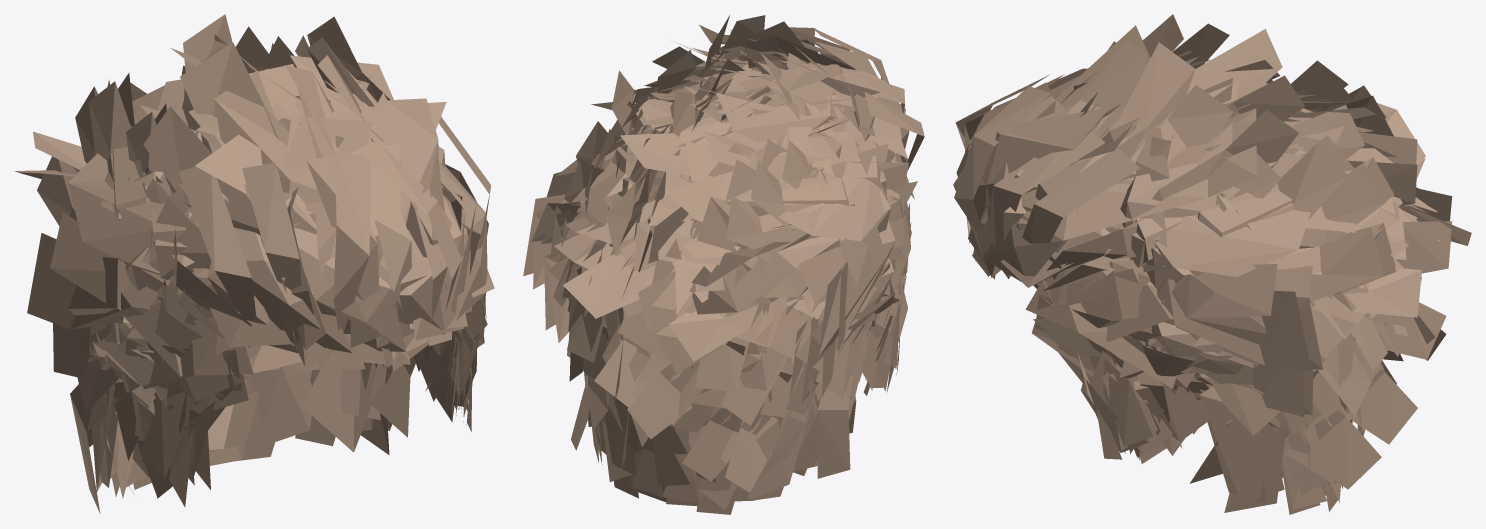
File: male_hair_14_lod1.glb
The picture shows the model from 3 angles, left to right: view 1: azimuth 30°, elevation 25°; view 2: azimuth 150°, elevation 25°; view 3: azimuth 270°, elevation 25°; orthographic projection. The views are drawn at different scales.
Visible parts, largest first — view 1: hair_14; view 2: hair_14; view 3: hair_14.
Boxes of the visible parts, box(x1,y1,x2,y2) form: hair_14: box(14, 14, 494, 513); hair_14: box(523, 15, 924, 514); hair_14: box(953, 14, 1471, 514).
Size of the model in its own units: 0.172 by 0.2215 by 0.2303.
